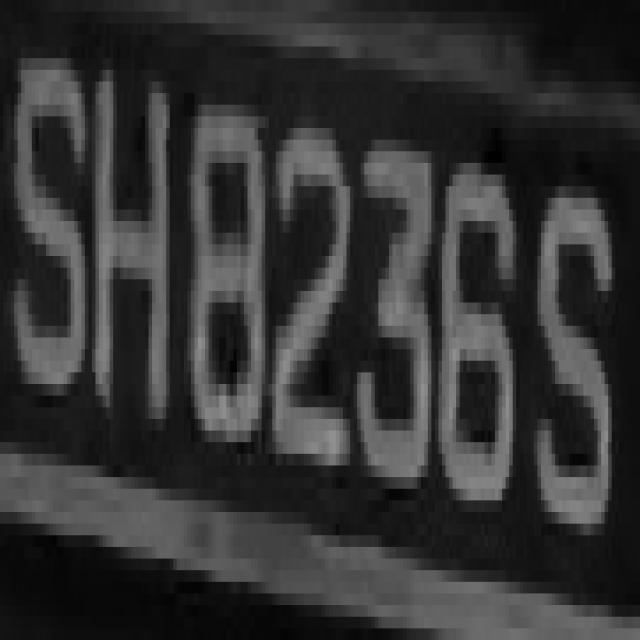2: (272, 105, 354, 500)
3: (350, 93, 435, 512)
6: (435, 151, 527, 547)
8: (184, 70, 269, 500)
H: (85, 23, 184, 466)
S: (530, 174, 612, 524), (7, 24, 81, 372)
